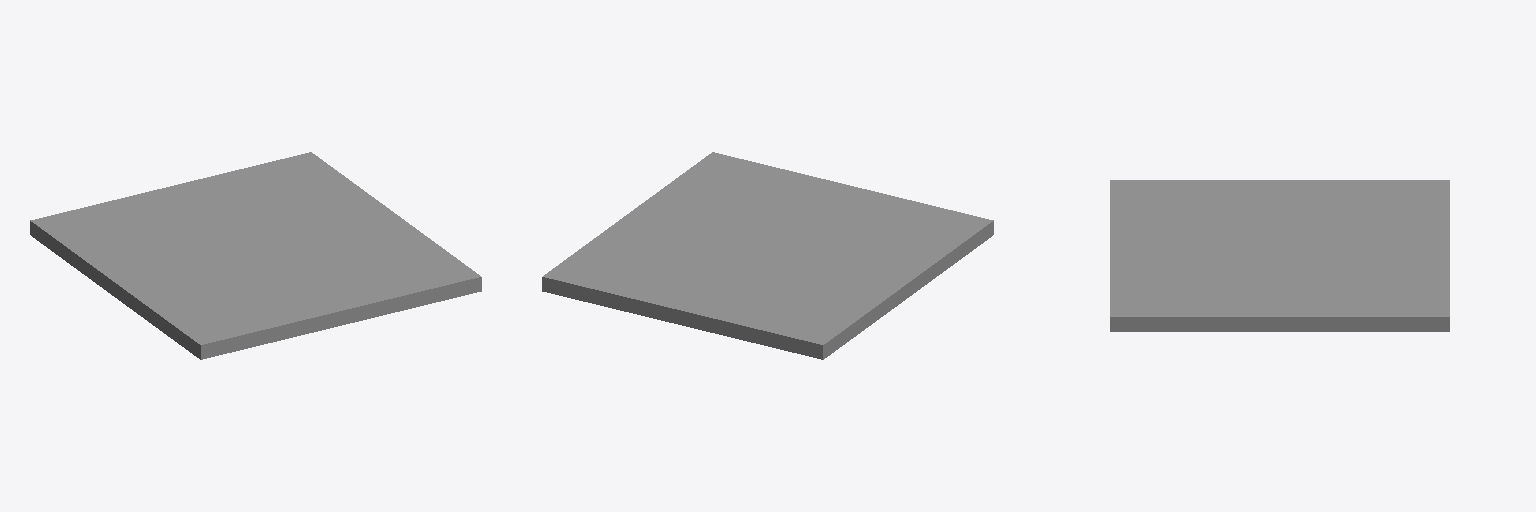
Rendered from Grass_Block2.obj.
The picture shows the model from 3 angles: view 1: azimuth 30°, elevation 25°; view 2: azimuth 150°, elevation 25°; view 3: azimuth 270°, elevation 25°; orthographic projection.
Parts seen in each view (by area): view 1: Grass_Block_Cube.002; view 2: Grass_Block_Cube.002; view 3: Grass_Block_Cube.002.
Part boxes in pixels (x1,y1,x2,y2): Grass_Block_Cube.002: (30,152,481,359); Grass_Block_Cube.002: (542,152,993,359); Grass_Block_Cube.002: (1110,180,1449,331).
Size of the model in its own units: 5.05 by 0.2523 by 5.3.